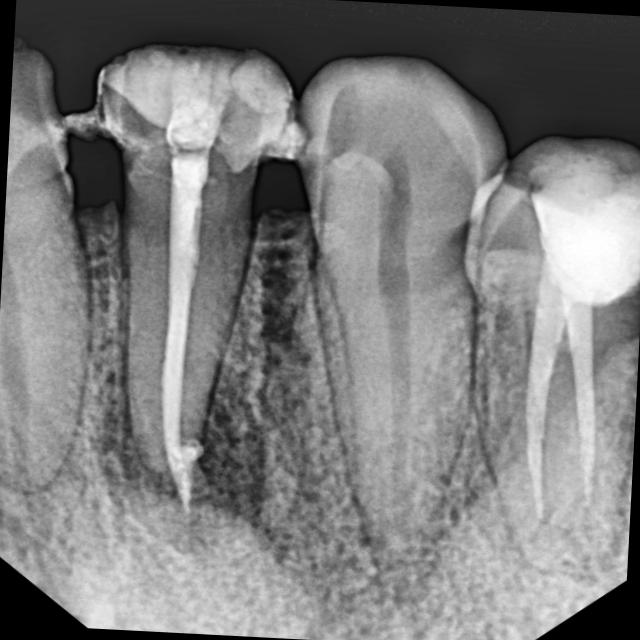RCT: (64, 34, 312, 558), (455, 124, 640, 576)
